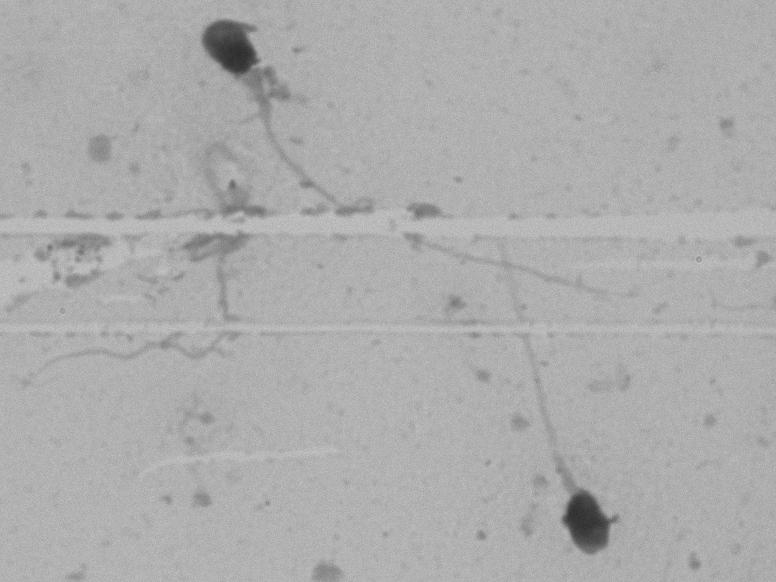Abnormal: (449, 260, 668, 561), (150, 9, 412, 223)
